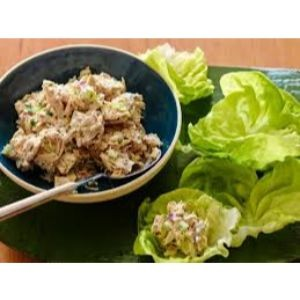tuna_brain food: (41, 87, 105, 174), (144, 199, 227, 260)
